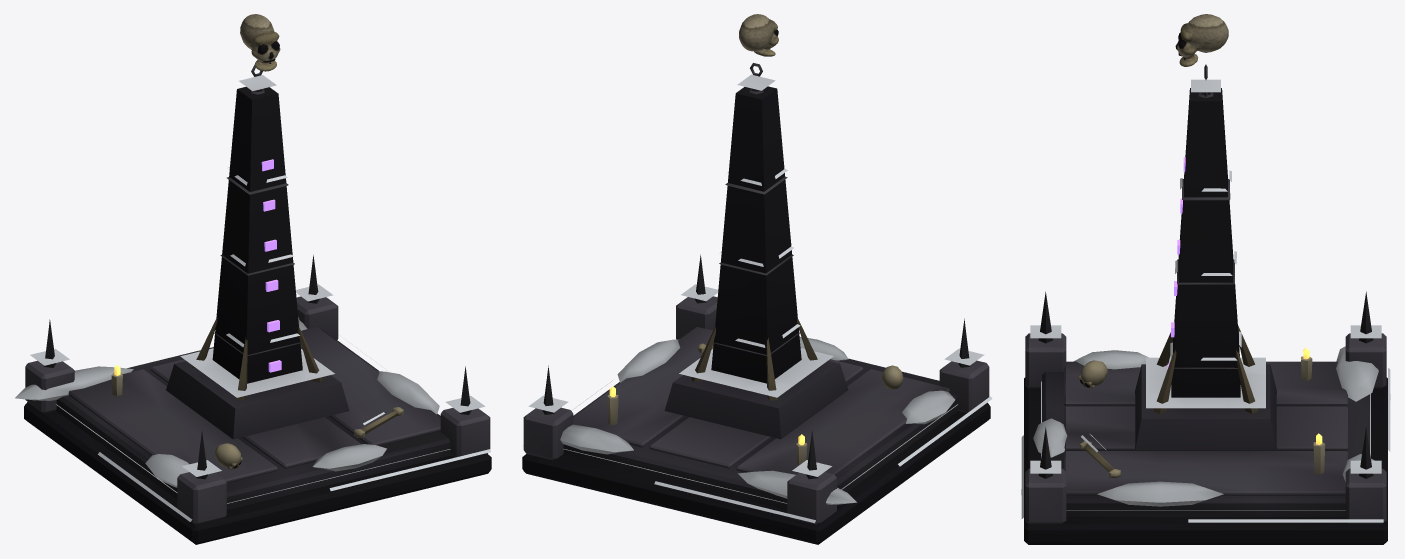
Rendered from ombres-2.glb.
The picture shows the model from 3 angles, left to right: view 1: azimuth 30°, elevation 25°; view 2: azimuth 150°, elevation 25°; view 3: azimuth 270°, elevation 25°; orthographic projection. The views are drawn at different scales.
Parts seen in each view (by area): view 1: ombres_2_architecture, ombres_2_crane, ombres_2_lueur.001; view 2: ombres_2_architecture, ombres_2_crane; view 3: ombres_2_architecture, ombres_2_crane.
Boxes of the visible parts, box(x1,y1,x2,y2) form: ombres_2_architecture: box(15, 49, 491, 544); ombres_2_crane: box(240, 14, 280, 71); ombres_2_lueur.001: box(261, 159, 281, 372); ombres_2_architecture: box(522, 49, 992, 544); ombres_2_crane: box(739, 14, 778, 56); ombres_2_architecture: box(1021, 51, 1390, 544); ombres_2_crane: box(1175, 14, 1228, 66).
Bounding box in the file's own units: 0.8654 × 1.1 × 0.811.
5 materials, 1 textured.
